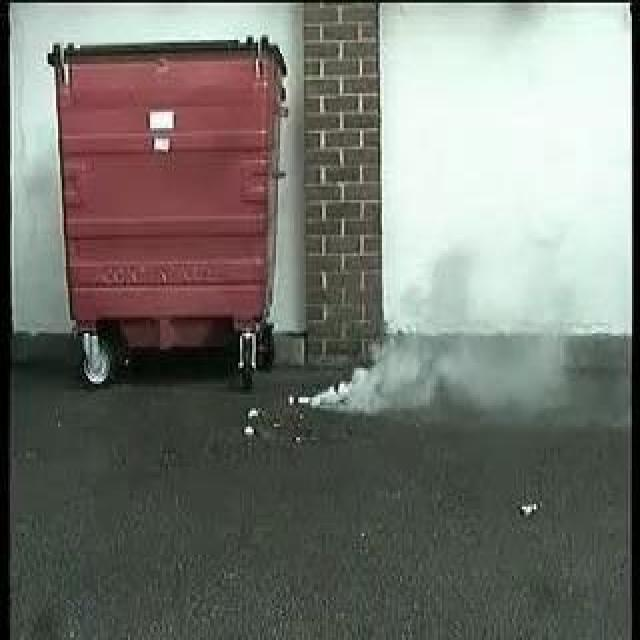Smoke: (309, 288, 561, 413)
